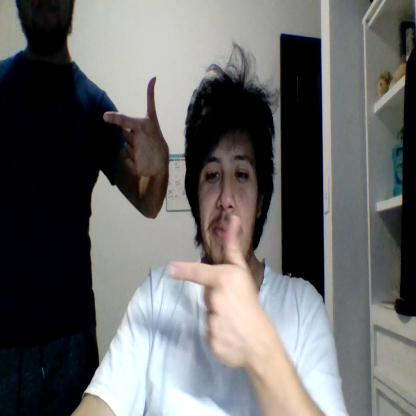G: (168, 215, 255, 365), (105, 76, 162, 178)
